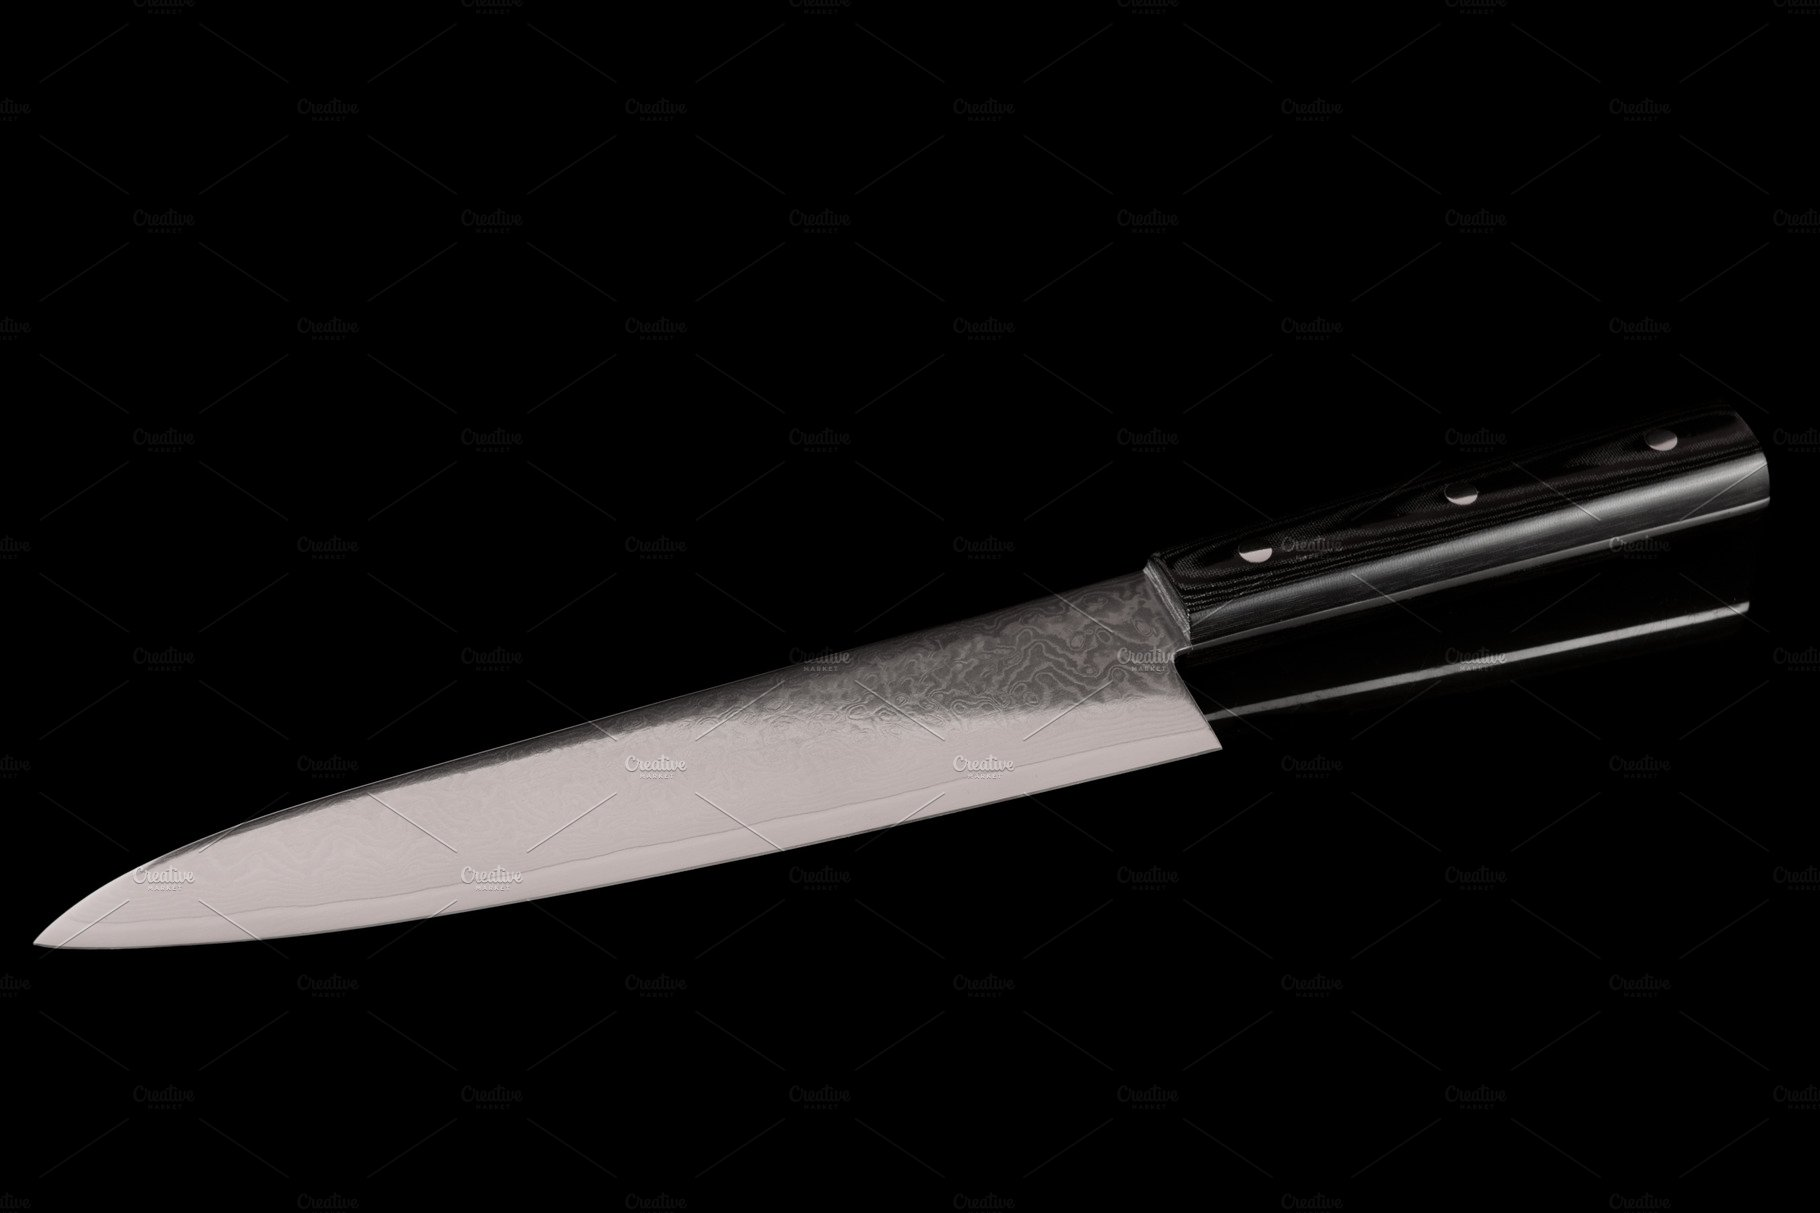knife: (42, 433, 1679, 1000)
